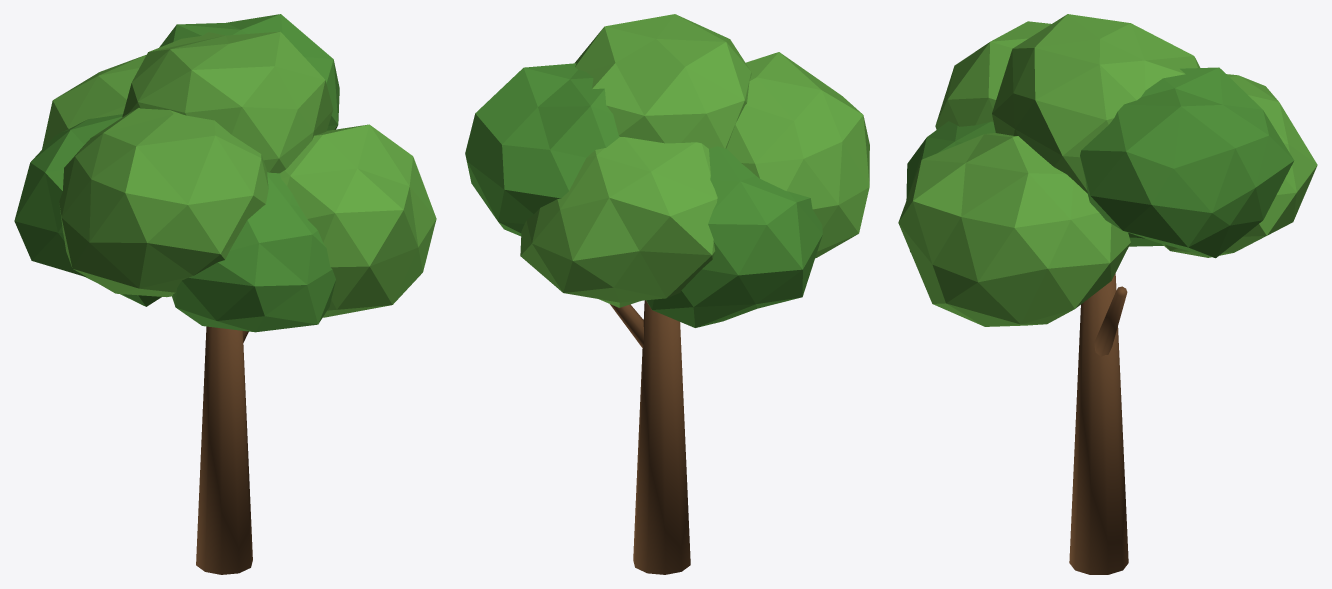
The model's file is tree_oak.glb.
The picture shows the model from 3 angles, left to right: view 1: azimuth 30°, elevation 25°; view 2: azimuth 150°, elevation 25°; view 3: azimuth 270°, elevation 25°; orthographic projection.
Parts seen in each view (by area): view 1: TreeOak; view 2: TreeOak; view 3: TreeOak.
Part boxes in pixels (<box>): TreeOak: <box>14,14,436,574</box>; TreeOak: <box>465,14,869,574</box>; TreeOak: <box>898,14,1317,574</box>.
Bounding box in the file's own units: 3.38 × 5.1 × 3.68.
